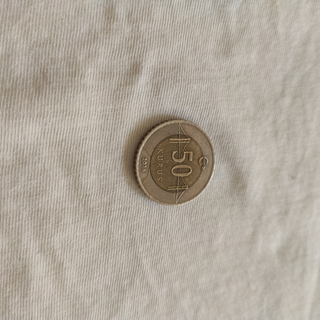50KURUS: (131, 117, 215, 206)
